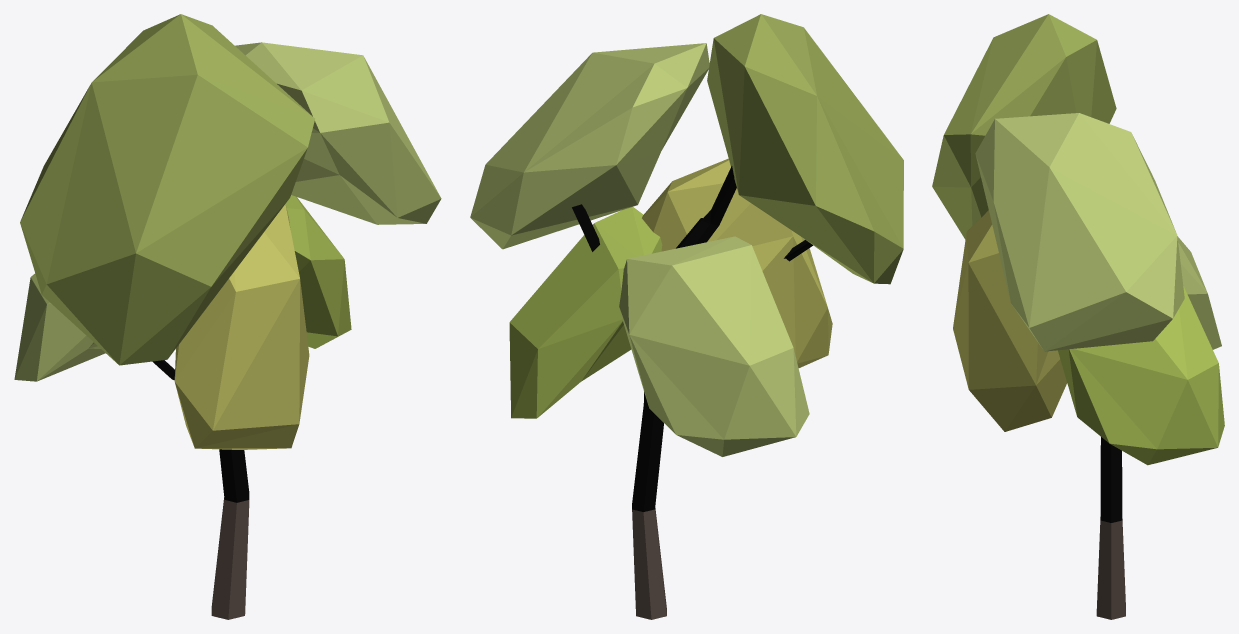
Rendered from tree_0502.dae.
3 views of the same model, side by side, from view 1: azimuth 30°, elevation 25°; view 2: azimuth 150°, elevation 25°; view 3: azimuth 270°, elevation 25° (orthographic). The views are drawn at different scales.
Parts seen in each view (by area): view 1: tree_0502; view 2: tree_0502; view 3: tree_0502.
Boxes of the visible parts, box(x1,y1,x2,y2) form: tree_0502: box(14, 14, 441, 619); tree_0502: box(470, 14, 903, 619); tree_0502: box(932, 14, 1224, 619).
Bounding box in the file's own units: 2.08 × 1.51 × 3.21.
